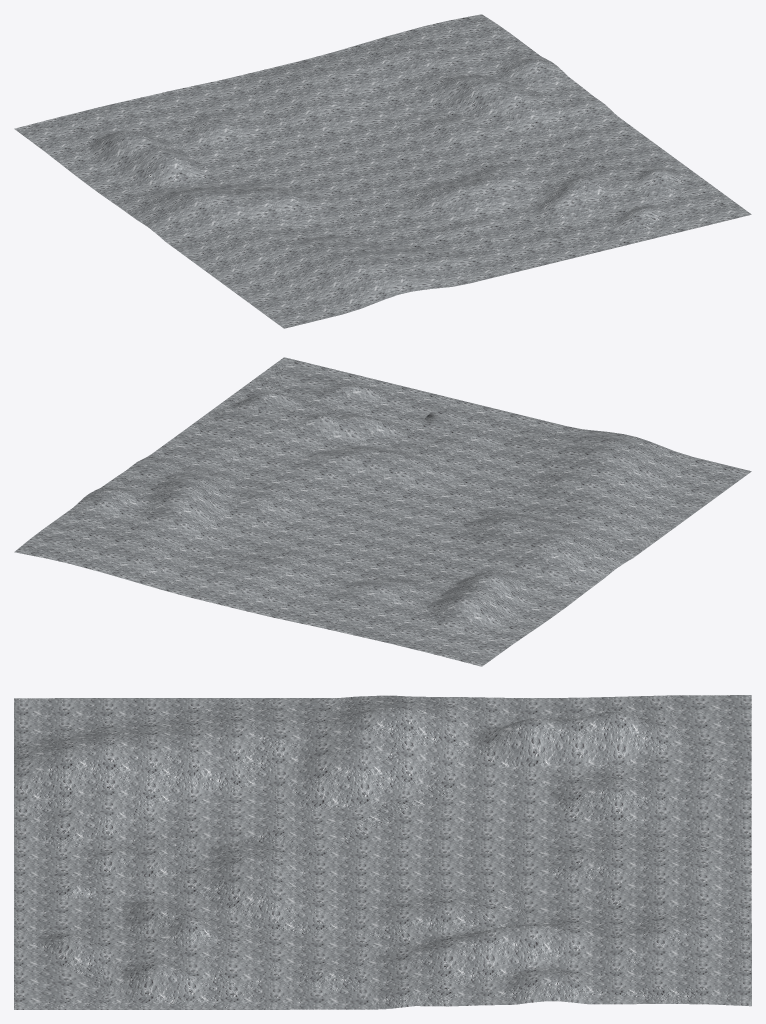
Rendered from moon.glb.
3 renders of one model, top to bottom at view 1: azimuth 30°, elevation 25°; view 2: azimuth 150°, elevation 25°; view 3: azimuth 270°, elevation 25°, orthographic. The views are drawn at different scales.
Visible parts, largest first — view 1: Plane.001; view 2: Plane.001; view 3: Plane.001.
Part boxes in pixels (box(x1,y1,x2,y2)): Plane.001: box(14, 14, 751, 328); Plane.001: box(14, 357, 751, 666); Plane.001: box(14, 695, 751, 1009).
Bounding box in the file's own units: 500 × 18.83 × 500.
1 material, 1 textured.
